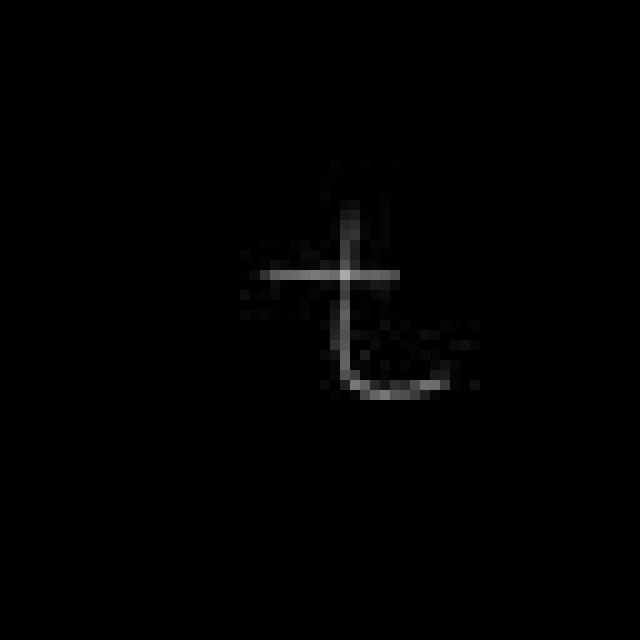7 -seven-: (259, 198, 454, 413)
